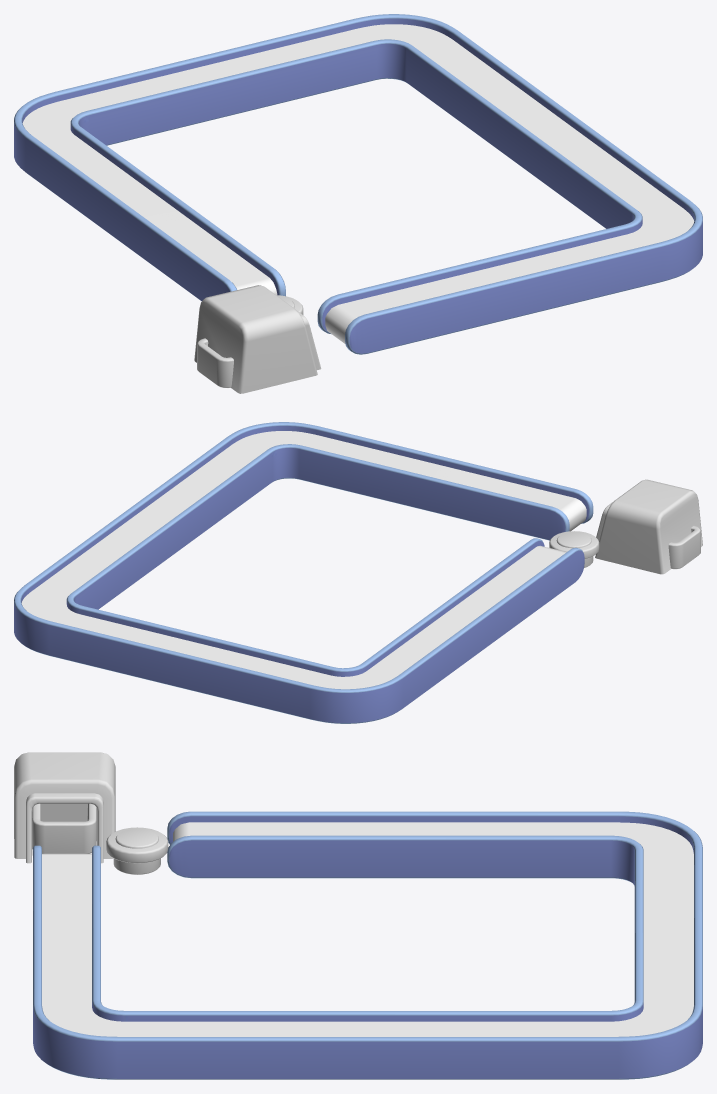
The picture shows the model from 3 angles, top to bottom: view 1: azimuth 30°, elevation 25°; view 2: azimuth 150°, elevation 25°; view 3: azimuth 270°, elevation 25°; orthographic projection. The views are drawn at different scales.
Parts seen in each view (by area): view 1: Conveyor, Machine_3A, Machine_3B; view 2: Conveyor, Machine_3A, Machine_3B, Machine_2B; view 3: Conveyor, Machine_3A, Machine_3B, Machine_2B, Machine_2A.
Part boxes in pixels (x1,y1,x2,y2): Conveyor: [14, 14, 702, 354]; Machine_3A: [194, 285, 321, 393]; Machine_3B: [197, 338, 233, 387]; Conveyor: [14, 422, 593, 723]; Machine_3A: [595, 479, 702, 574]; Machine_3B: [668, 526, 700, 569]; Machine_2B: [549, 531, 599, 567]; Conveyor: [33, 811, 702, 1079]; Machine_3A: [14, 752, 115, 863]; Machine_3B: [32, 803, 96, 853]; Machine_2B: [106, 827, 168, 874]; Machine_2A: [115, 828, 158, 848].
Bounding box in the file's own units: 307 × 37.68 × 334.
